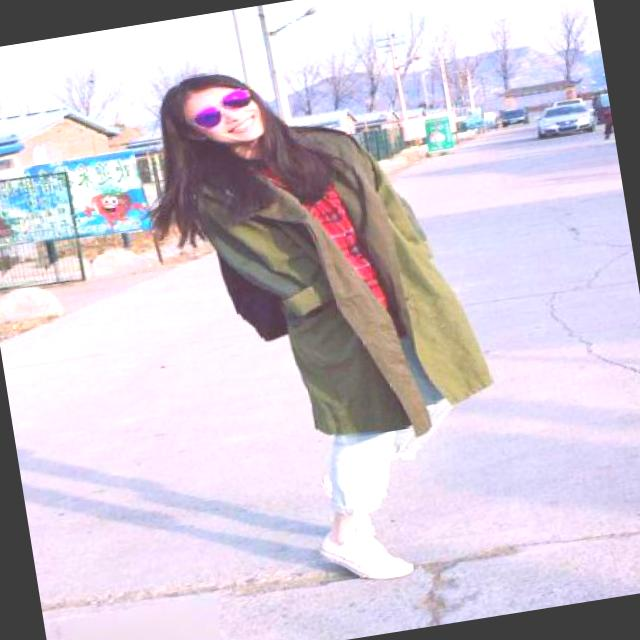Person: (150, 2, 530, 638)
